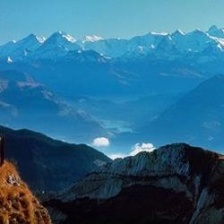neutral: (2, 18, 223, 224)
